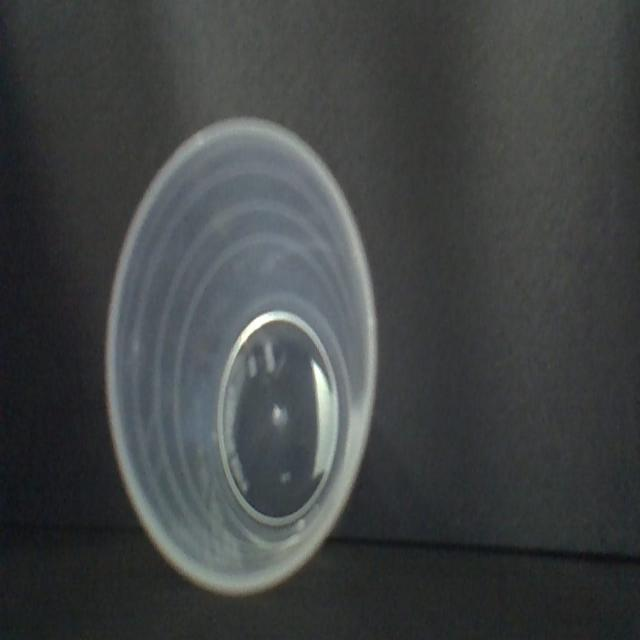cup: (104, 110, 382, 606)
